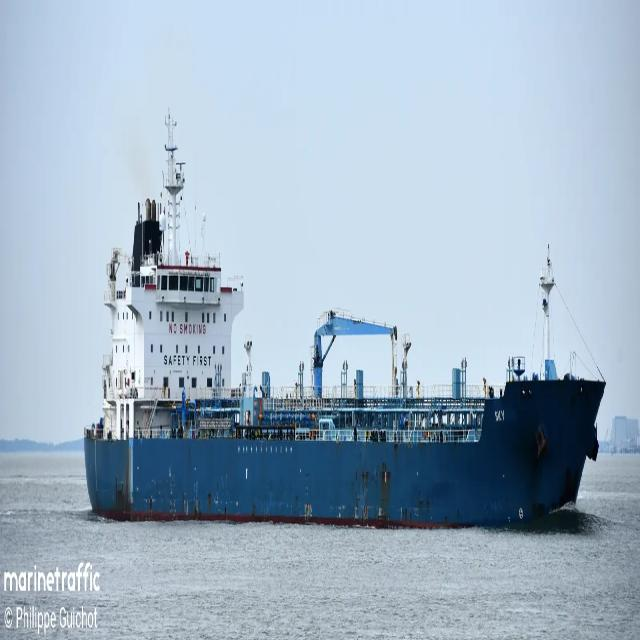Tanker: (84, 145, 605, 526)
